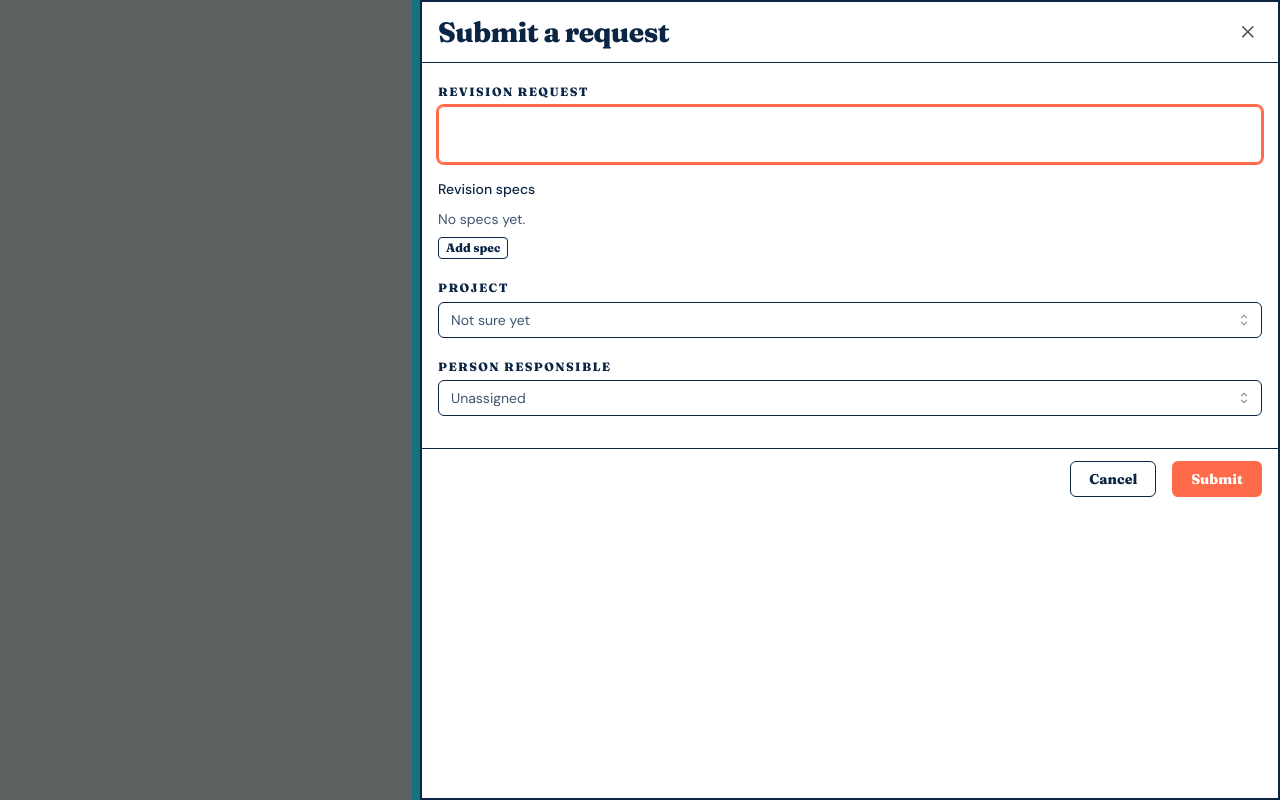
Scenario: Kano Person responsible › submit modal lists active PMs and team members and posts the chosen id
Later steps or results of the test are not shown.
Click the field labelled "Person responsible": [850, 398] box top-left (438, 380), bottom-right (1262, 416)
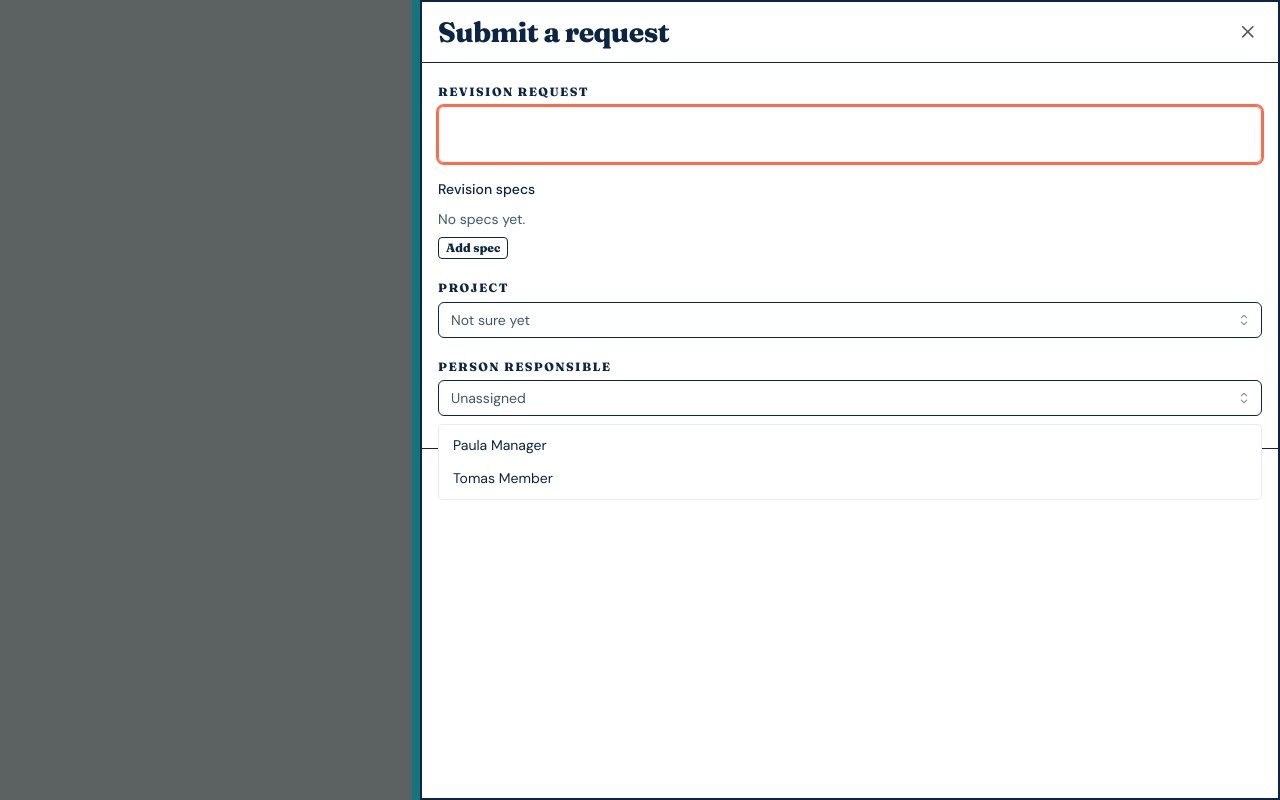
Click the field labelled "Person responsible": [850, 398] box top-left (438, 380), bottom-right (1262, 416)
Expected: the option "Paula Manager" is shown, top-left (453, 436), bottom-right (547, 454)
